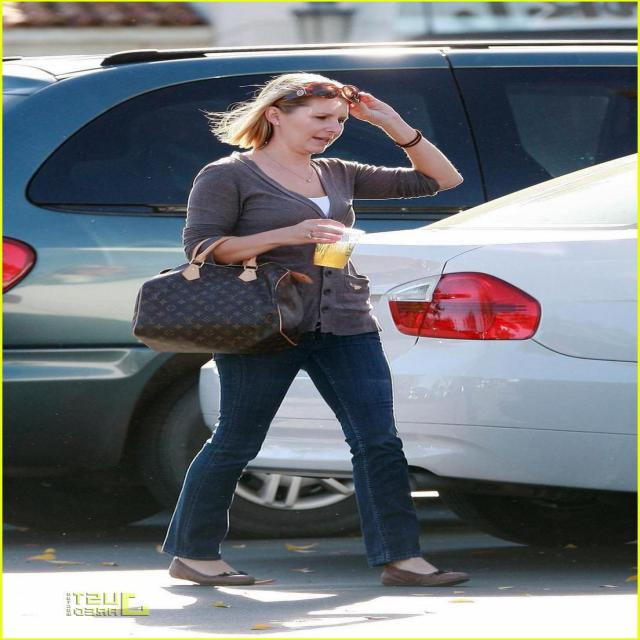no-earmuff: (243, 96, 309, 147)
